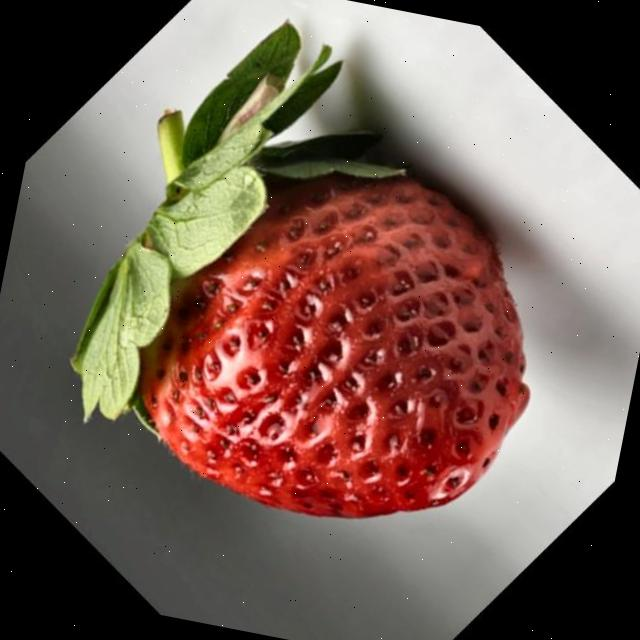strawberry: (72, 22, 529, 517)
